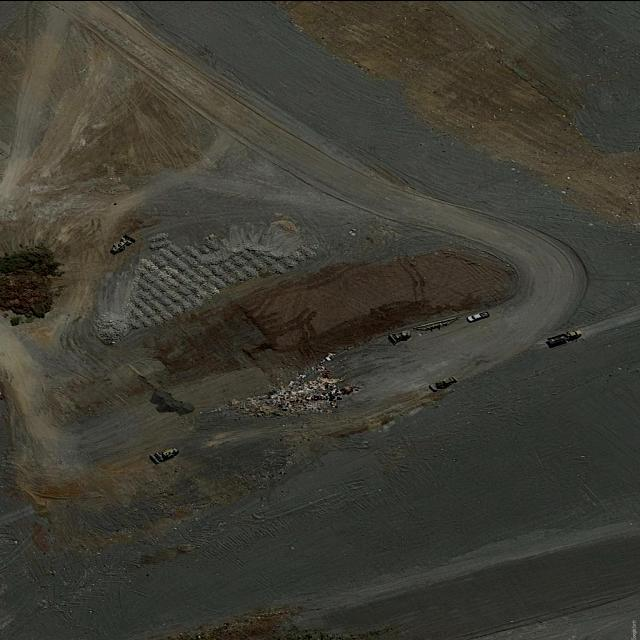dump_site: (221, 359, 374, 436)
